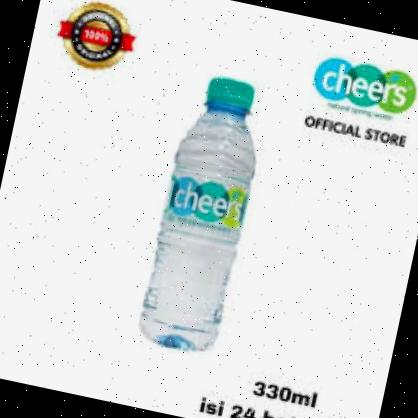bottle: (128, 66, 294, 360)
cap: (194, 72, 264, 124)
label: (158, 166, 258, 238)
